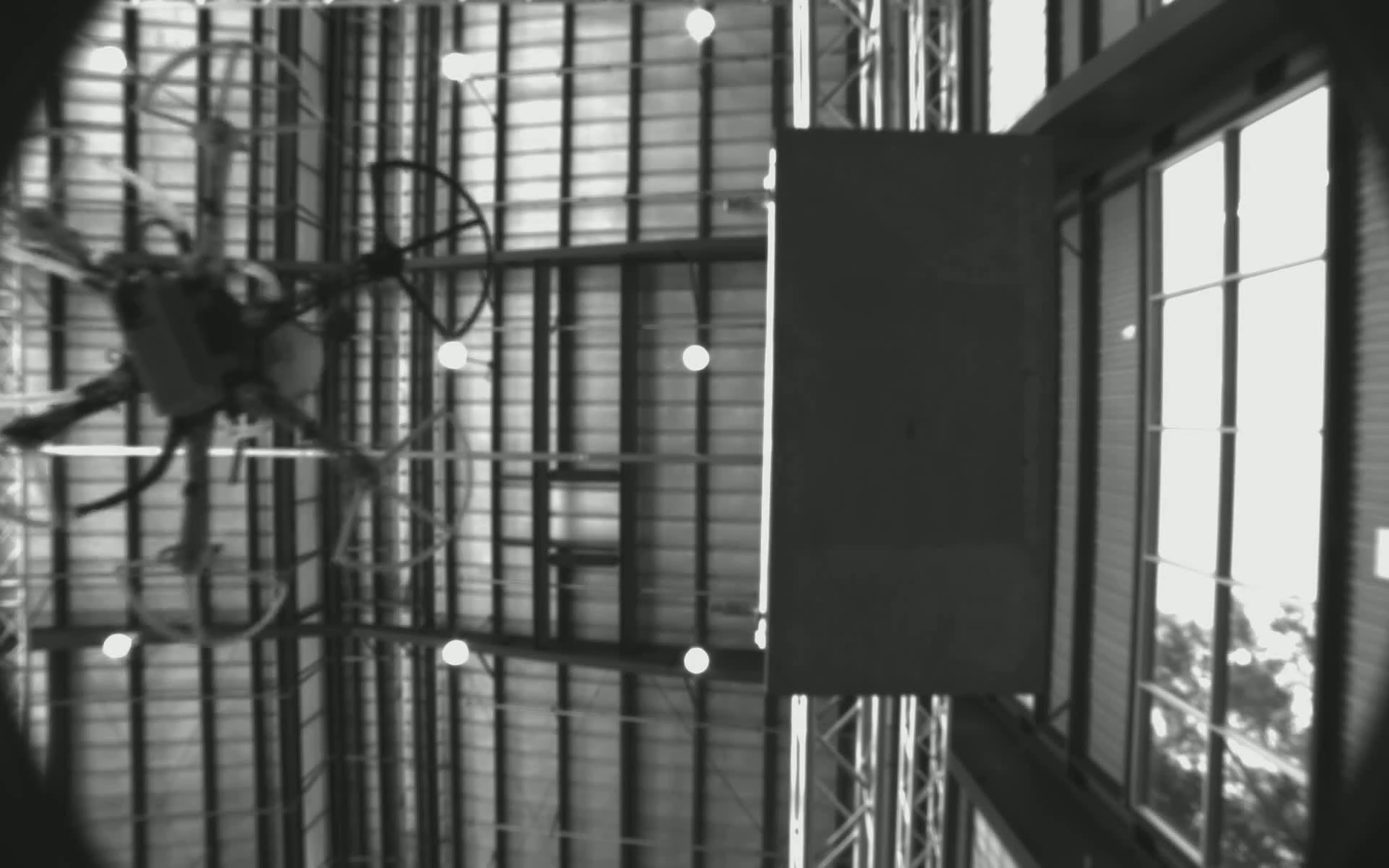drone: (0, 33, 528, 665)
